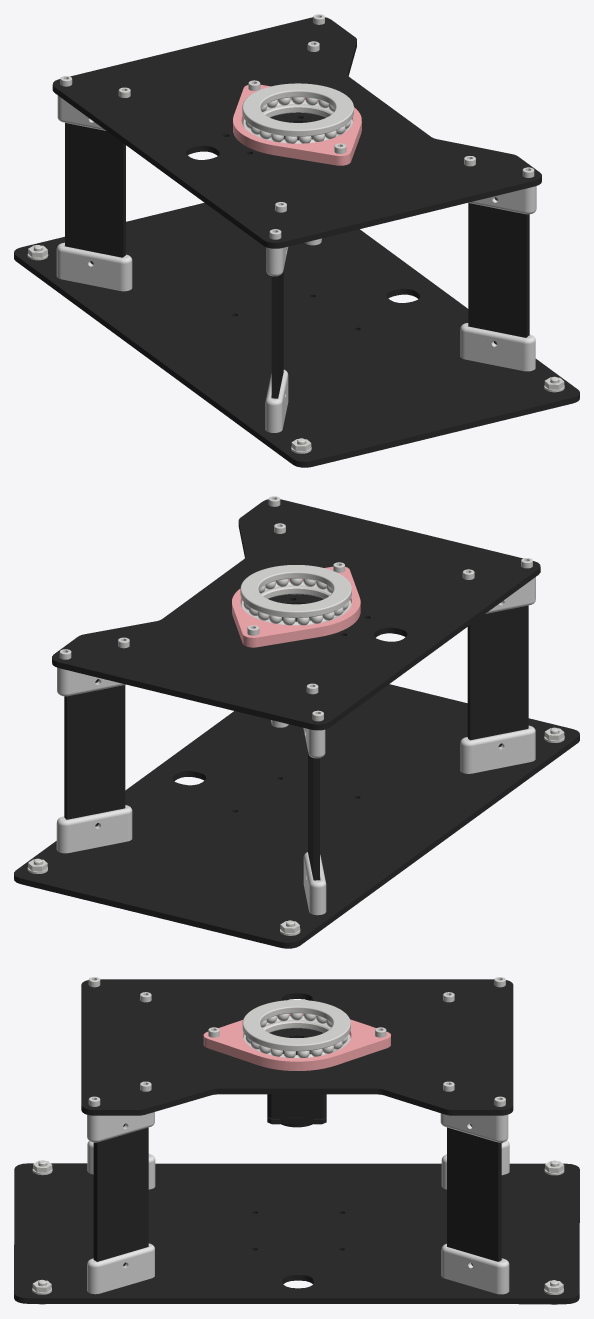
Rendered from ColumnasConDyna0_001.dae.
3 views of the same model, one above another, from view 1: azimuth 30°, elevation 25°; view 2: azimuth 150°, elevation 25°; view 3: azimuth 270°, elevation 25° (orthographic). The views are drawn at different scales.
Parts seen in each view (by area): view 1: ColumnaBase_conDyna; view 2: ColumnaBase_conDyna; view 3: ColumnaBase_conDyna.
Part boxes in pixels (box(x1,y1,x2,y2)): ColumnaBase_conDyna: box(14, 14, 579, 467); ColumnaBase_conDyna: box(14, 496, 579, 948); ColumnaBase_conDyna: box(14, 977, 579, 1304).
Size of the model in its own units: 0.1534 by 0.2716 by 0.1165.
